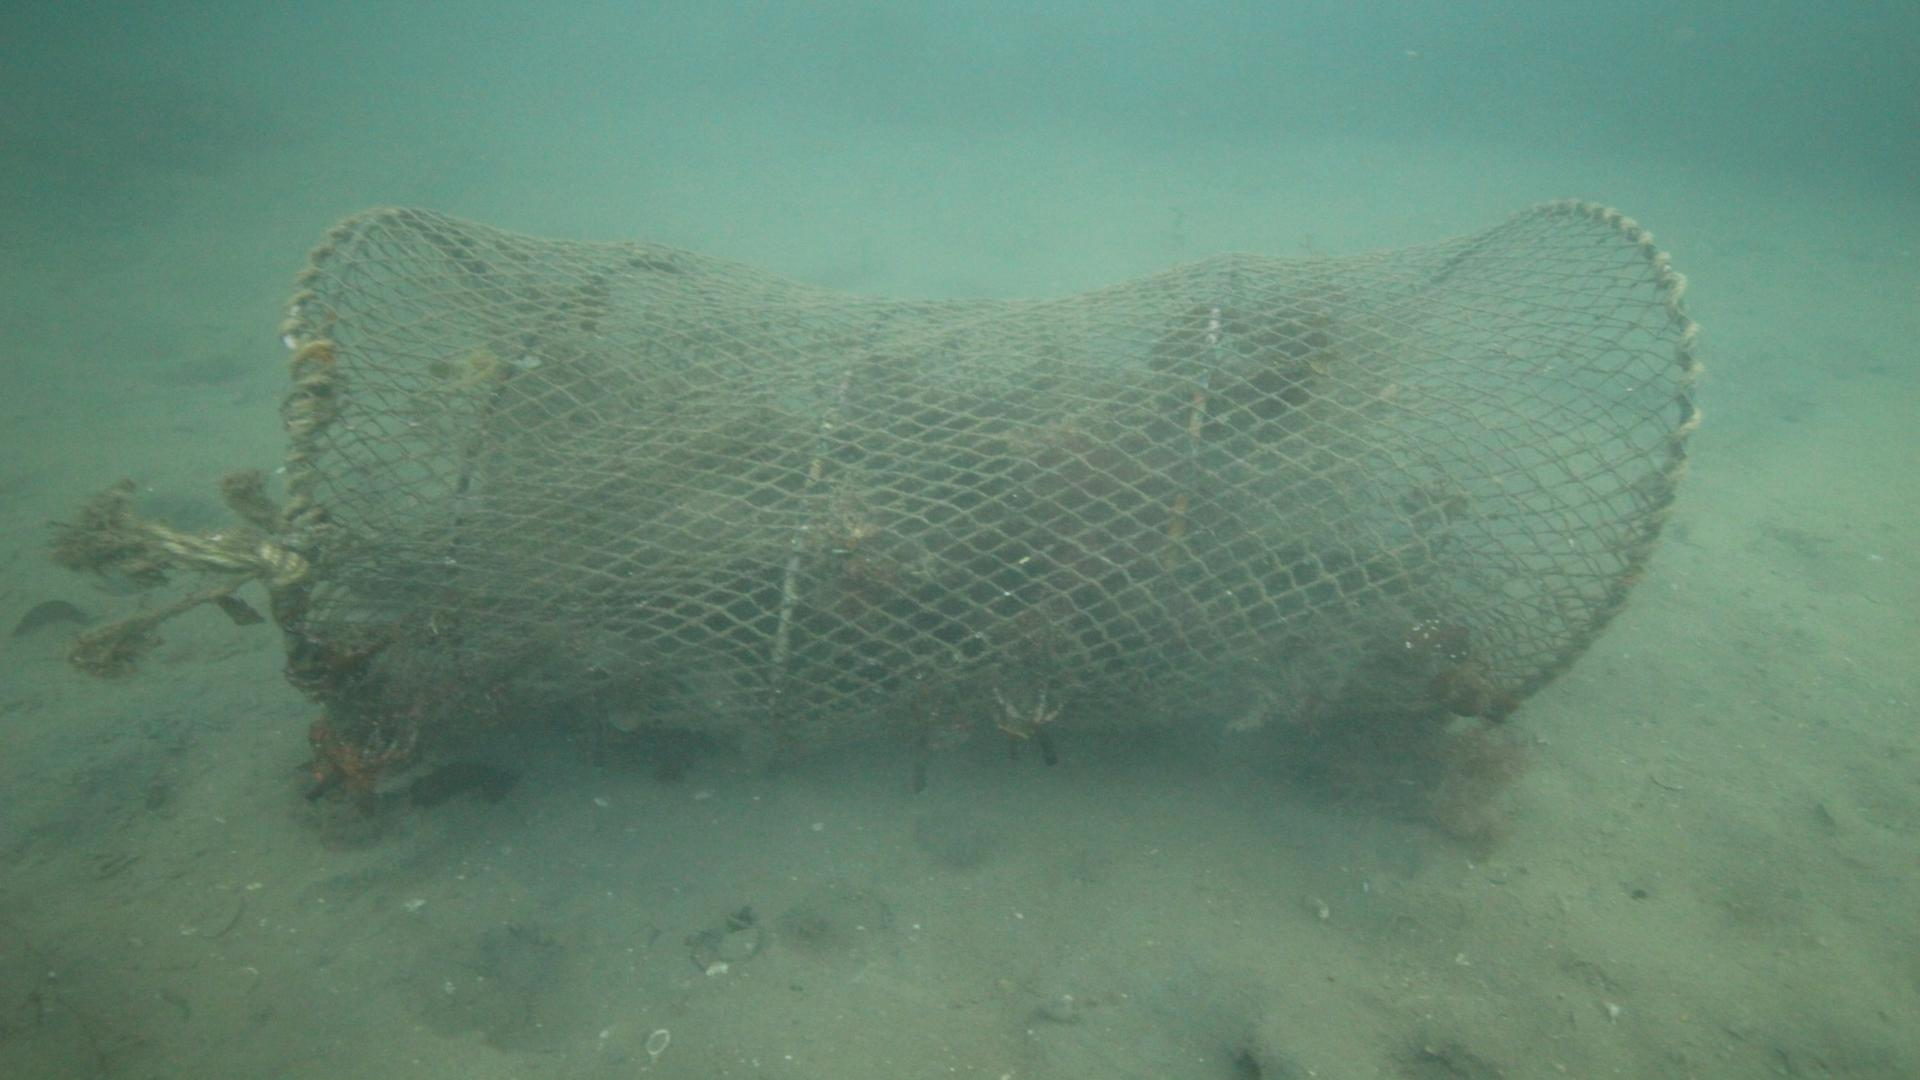spring fish trap: (266, 203, 1704, 811)
